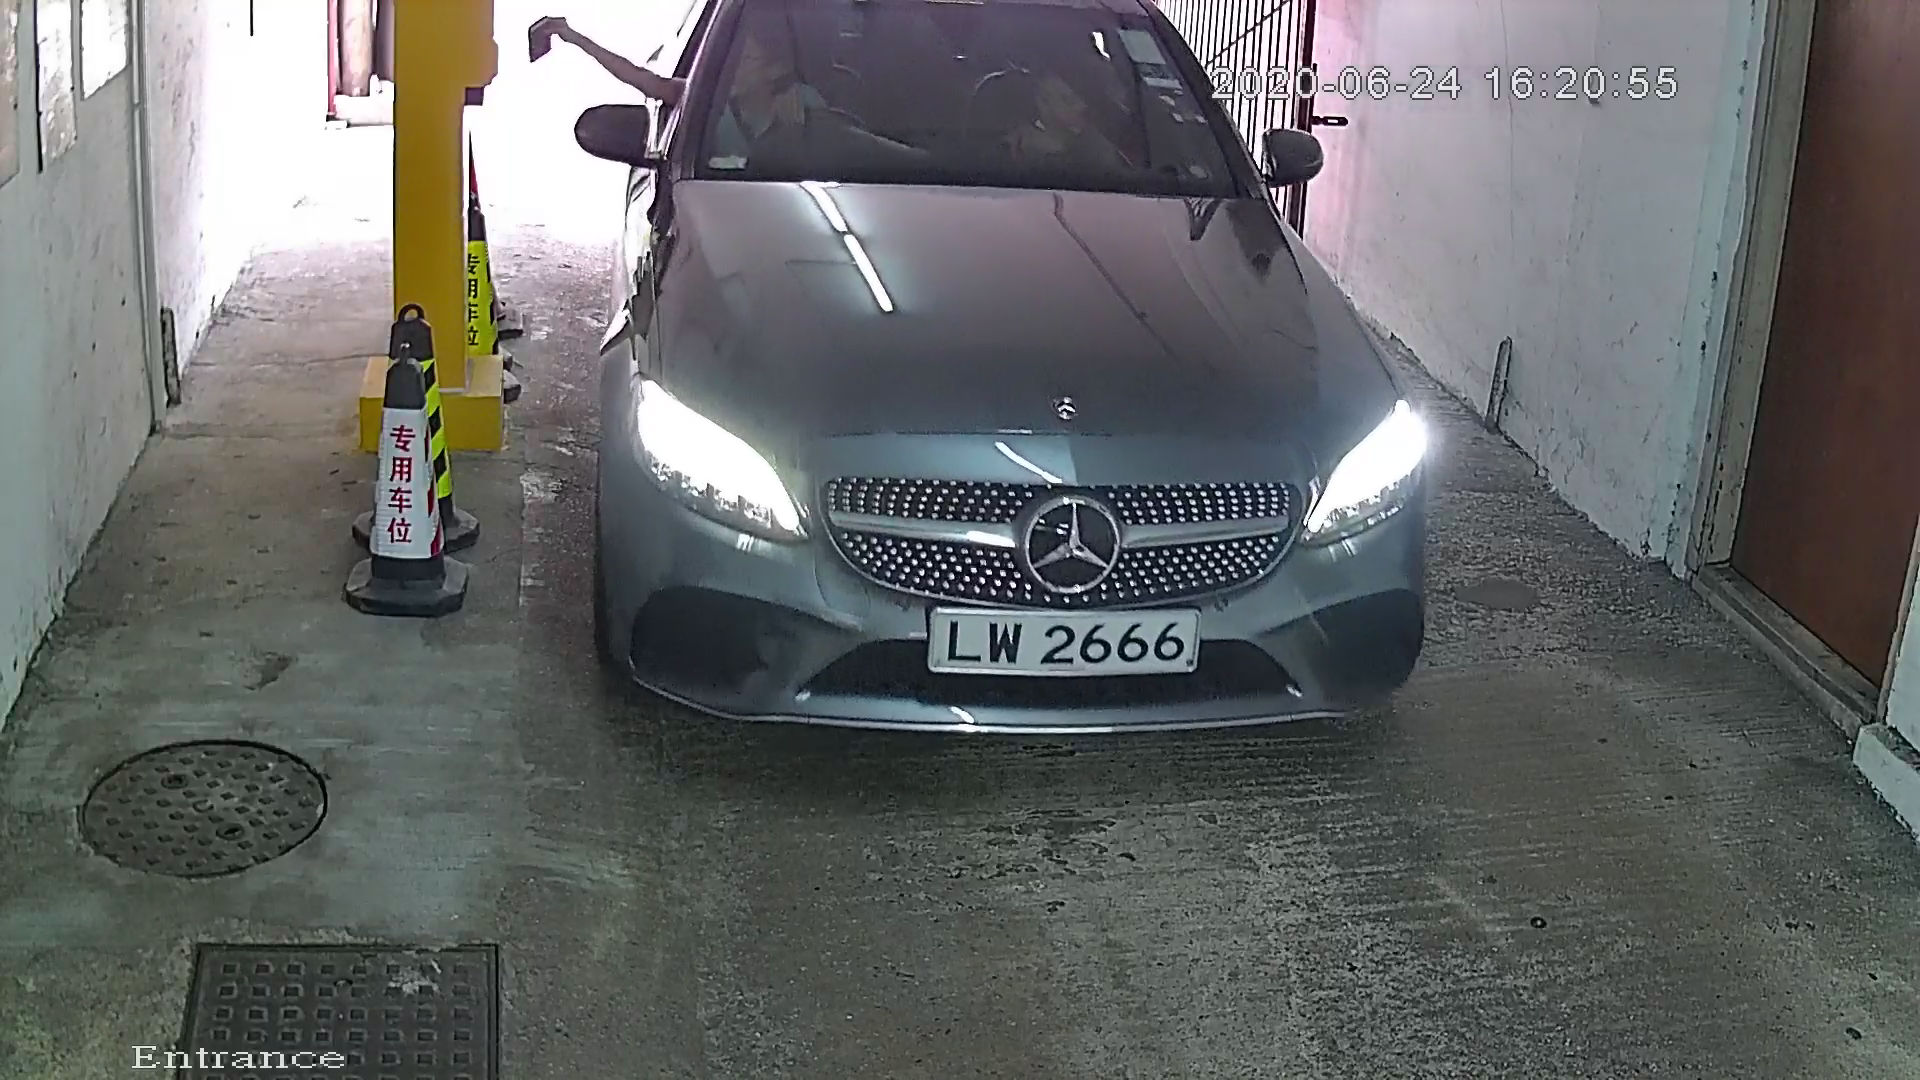Car: (535, 1, 1458, 798)
License Plate: (918, 588, 1214, 690)
